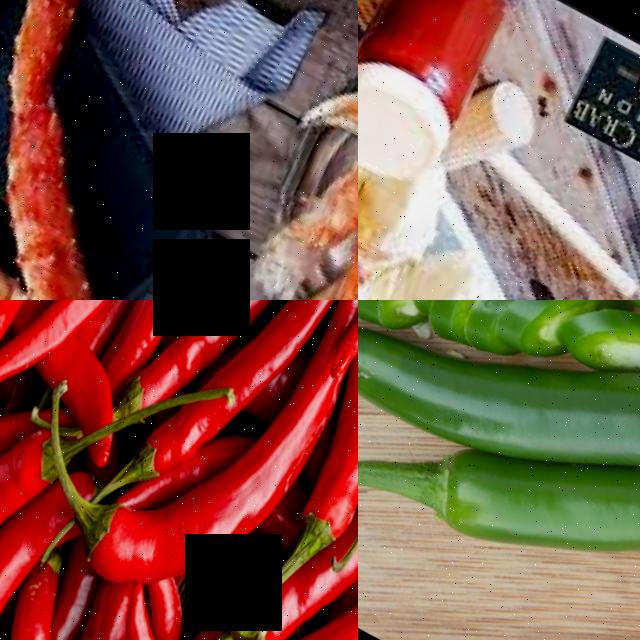chilli: (61, 422, 274, 631), (243, 319, 358, 575), (102, 300, 247, 445), (0, 300, 131, 460), (358, 300, 640, 371), (14, 572, 147, 640), (328, 459, 358, 640)
crab: (0, 130, 174, 300), (247, 56, 358, 300), (358, 199, 577, 300), (0, 0, 172, 126)
